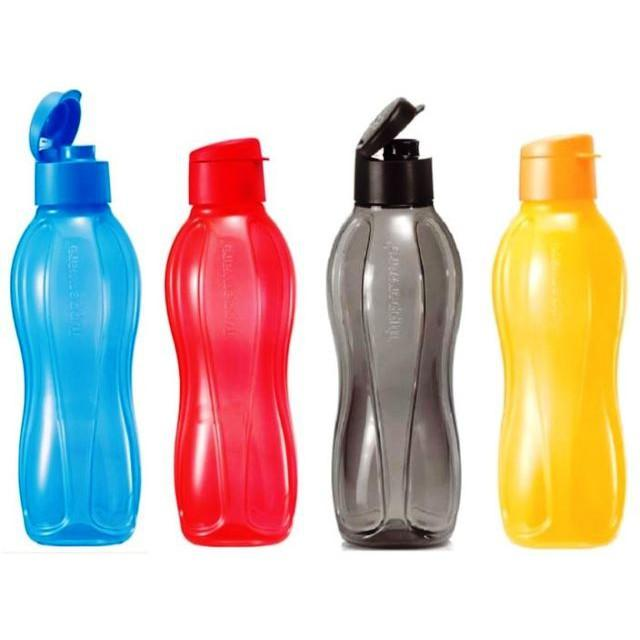PP: (483, 83, 640, 640), (0, 41, 152, 579), (157, 68, 306, 574), (323, 85, 476, 573)
